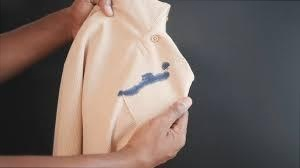ink: (142, 73, 170, 85), (120, 85, 140, 98), (162, 63, 170, 70)
